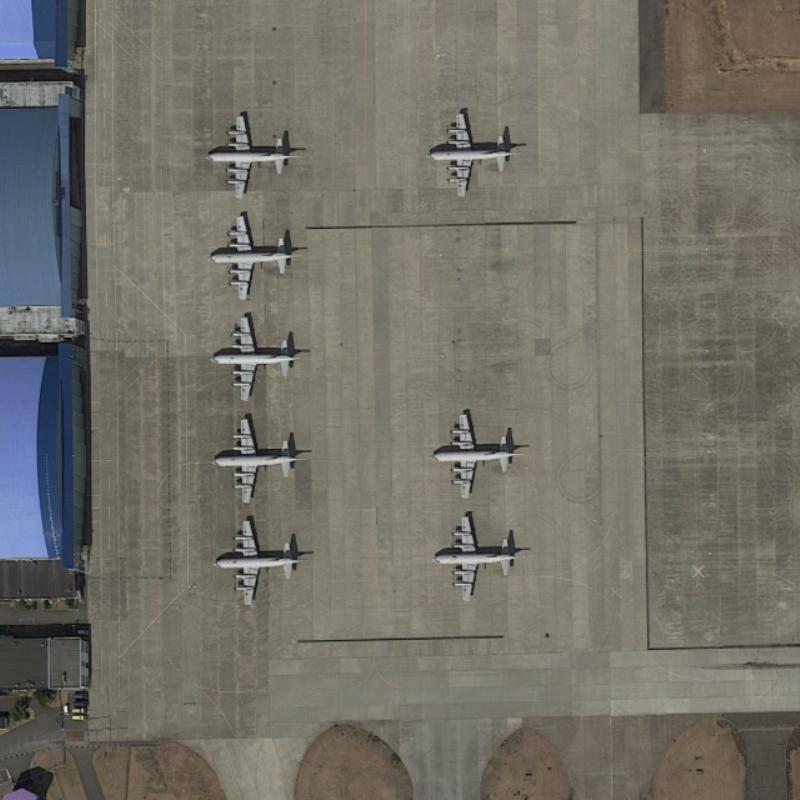A9: (421, 399, 525, 501), (419, 99, 521, 202), (206, 405, 311, 504), (200, 209, 308, 304), (203, 513, 306, 611), (428, 503, 519, 611), (202, 104, 300, 204), (204, 306, 299, 402)
